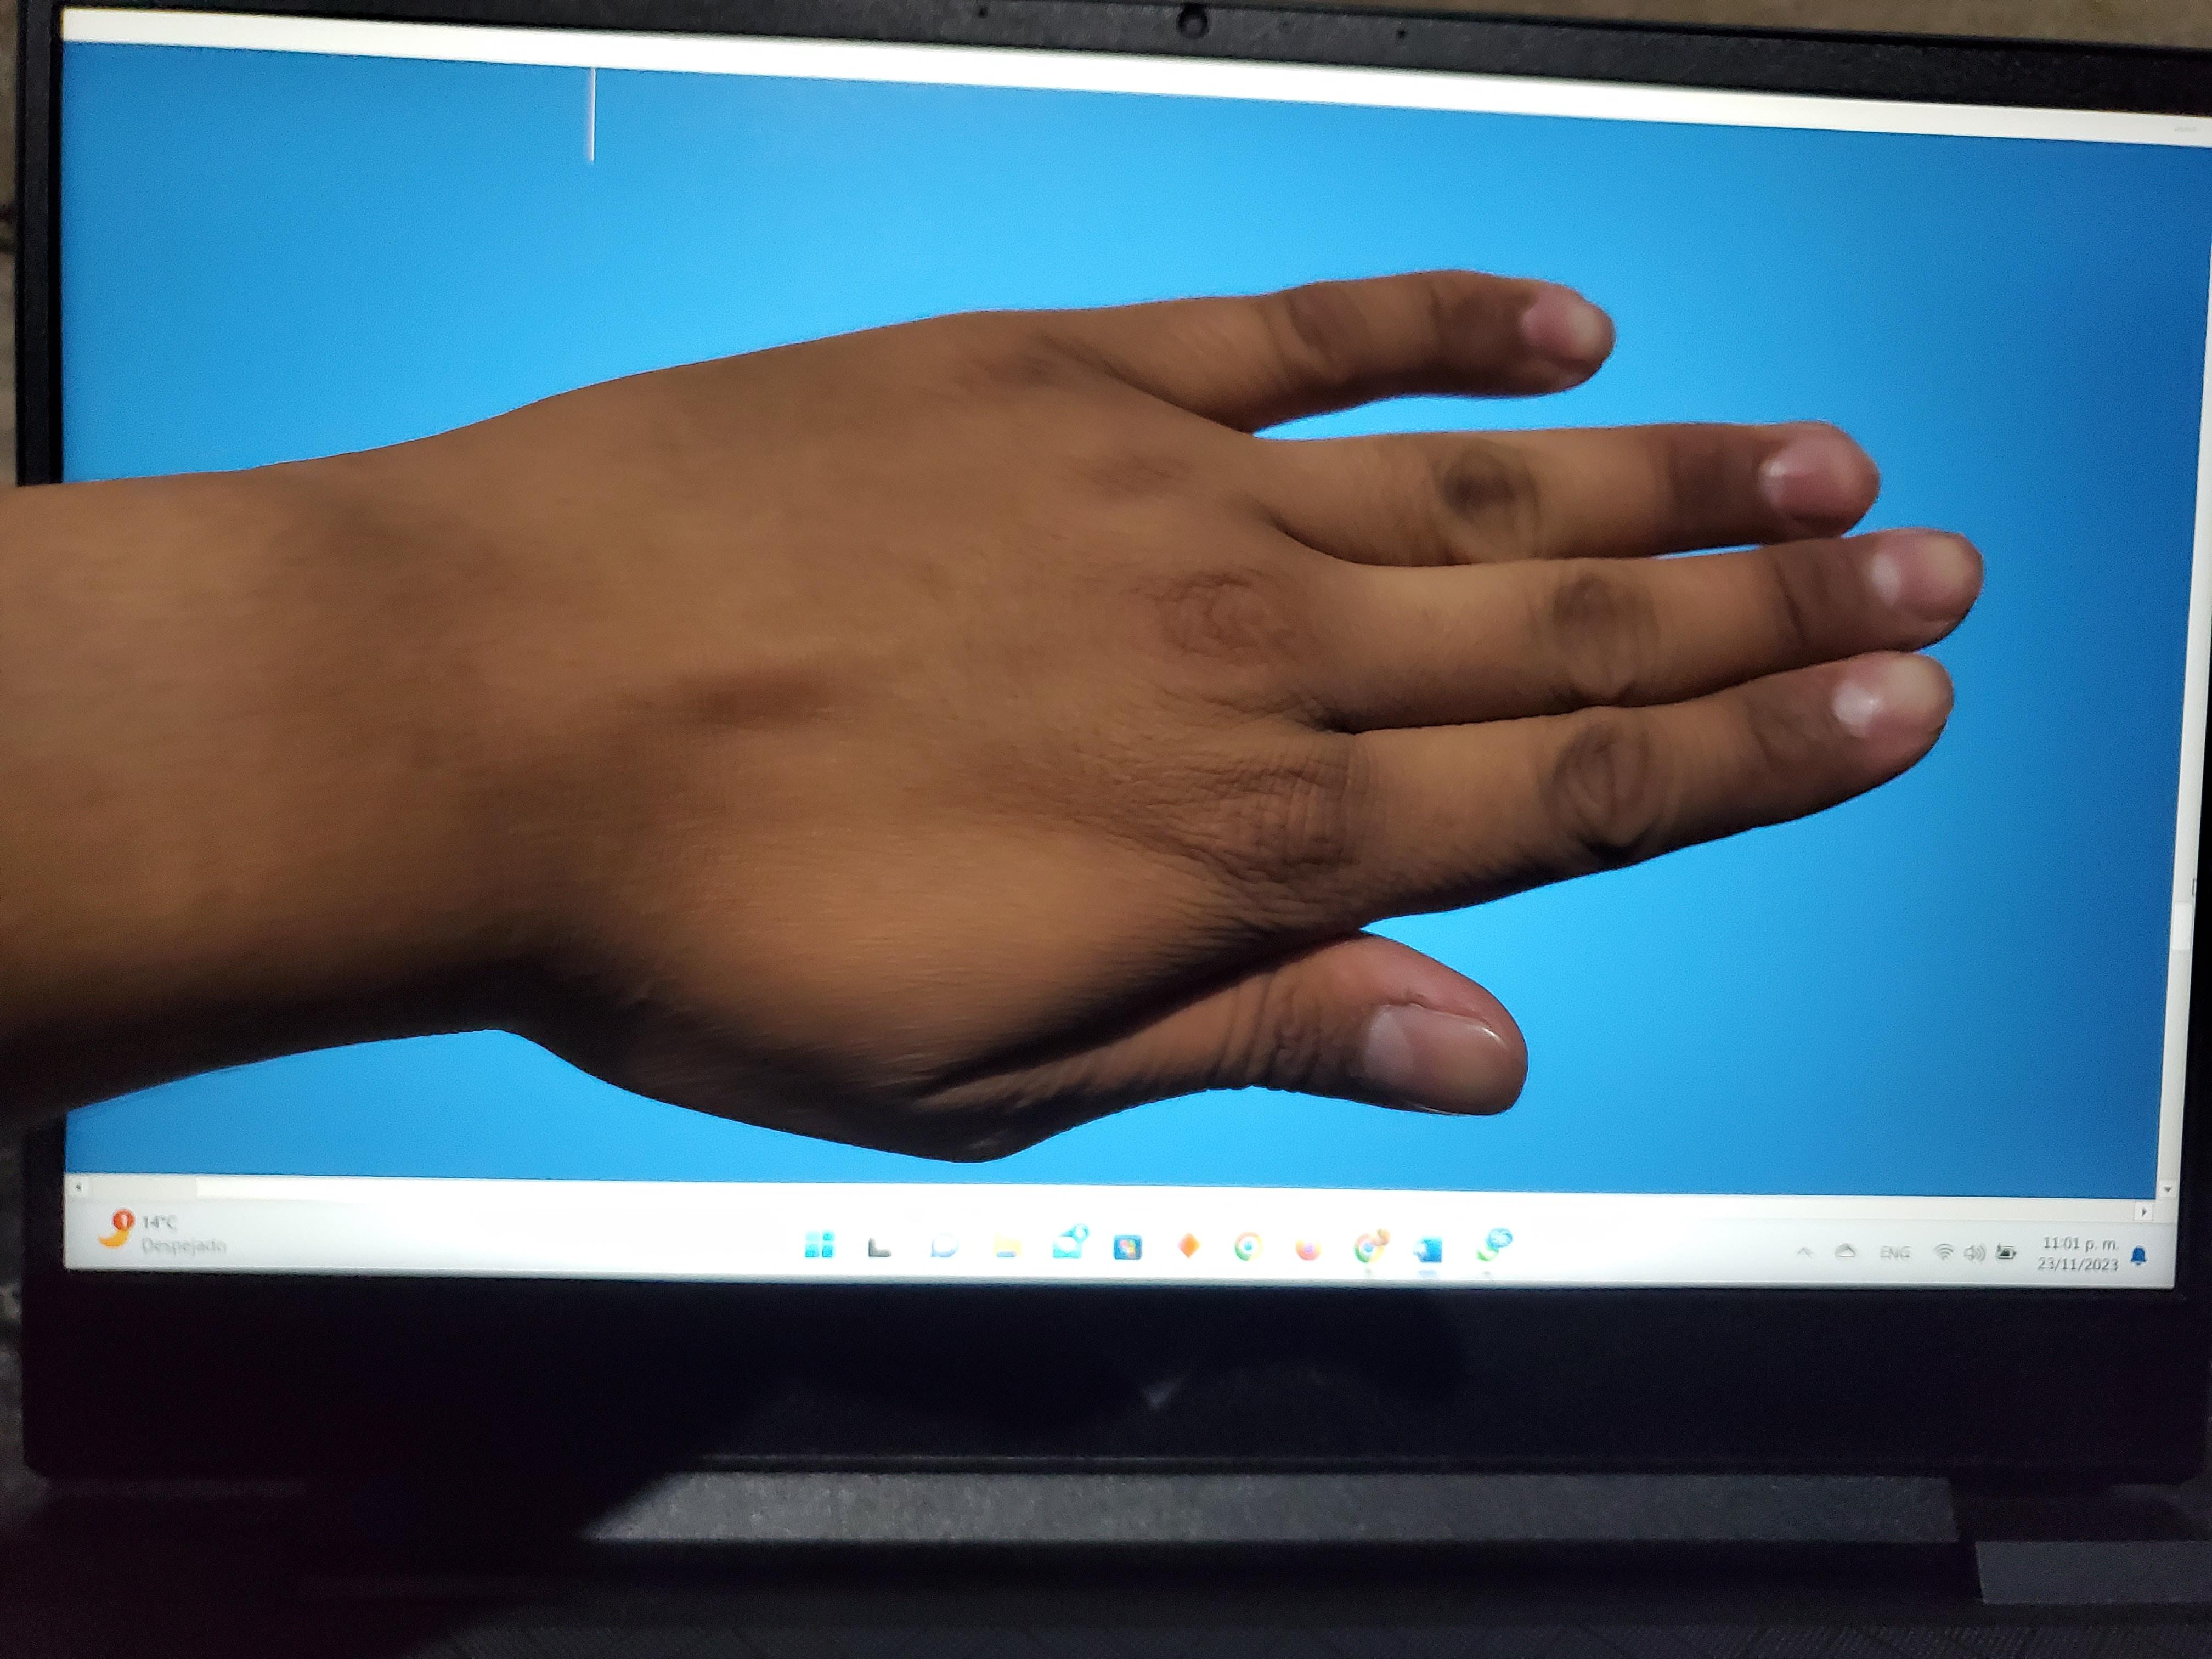Paper: (40, 117, 2067, 1269)
